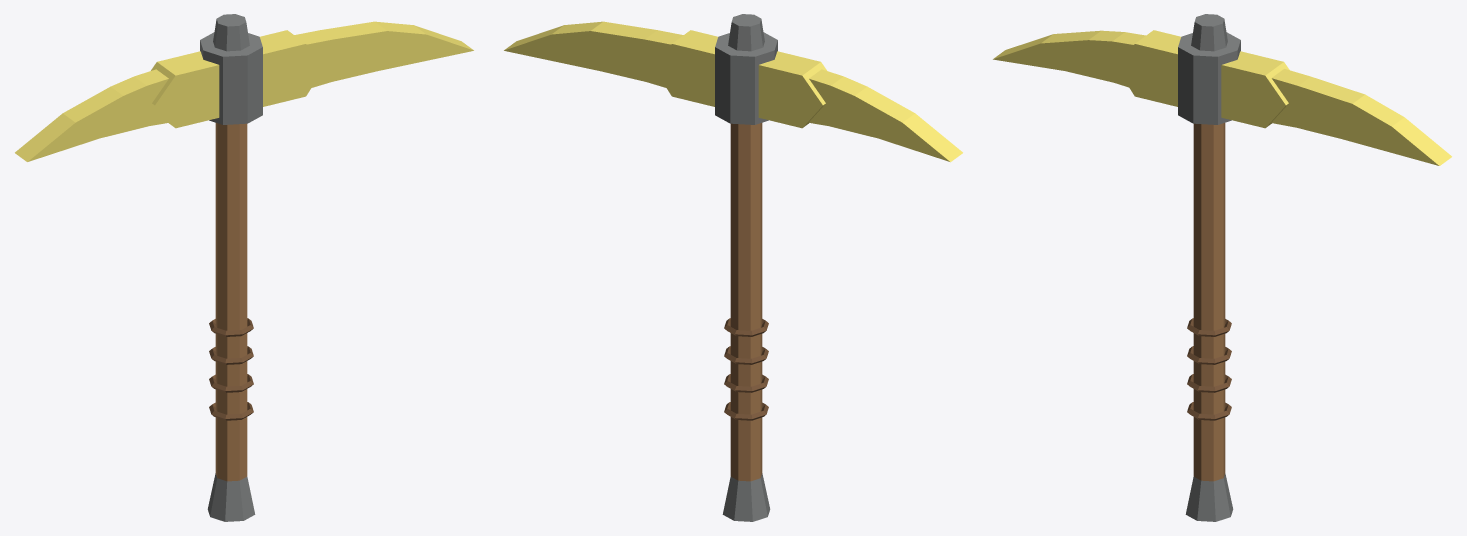
File: t7_pickaxe.glb
3 views of the same model, side by side, from view 1: azimuth 30°, elevation 25°; view 2: azimuth 150°, elevation 25°; view 3: azimuth 330°, elevation 25° (orthographic).
Parts seen in each view (by area): view 1: WoodHandle, HeadCore, RightPickHead, LeftPickHead, HeadSocket, BottomPommel, TopCap; view 2: WoodHandle, HeadCore, RightPickHead, LeftPickHead, HeadSocket, BottomPommel, TopCap; view 3: WoodHandle, RightPickHead, HeadCore, LeftPickHead, HeadSocket, BottomPommel, TopCap.
Part boxes in pixels (<box>): WoodHandle: <box>215,123,247,481</box>; HeadCore: <box>151,30,326,128</box>; RightPickHead: <box>294,21,473,87</box>; LeftPickHead: <box>15,69,168,161</box>; HeadSocket: <box>200,32,262,124</box>; BottomPommel: <box>207,473,255,521</box>; TopCap: <box>213,14,249,51</box>; WoodHandle: <box>730,123,762,481</box>; HeadCore: <box>651,30,826,128</box>; RightPickHead: <box>504,21,683,87</box>; LeftPickHead: <box>809,69,962,161</box>; HeadSocket: <box>715,32,777,124</box>; BottomPommel: <box>722,473,770,521</box>; TopCap: <box>728,14,764,51</box>; WoodHandle: <box>1193,123,1225,481</box>; RightPickHead: <box>1271,69,1451,165</box>; HeadCore: <box>1114,30,1289,128</box>; LeftPickHead: <box>993,30,1145,87</box>; HeadSocket: <box>1178,32,1240,124</box>; BottomPommel: <box>1185,473,1233,521</box>; TopCap: <box>1191,14,1227,51</box>.
Bounding box in the file's own units: 1.51 × 1.59 × 0.19.
